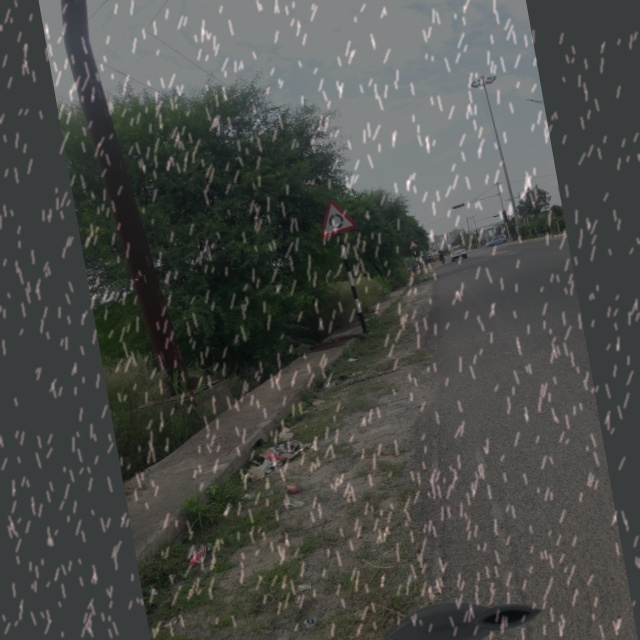Round_About: (308, 186, 367, 240)
